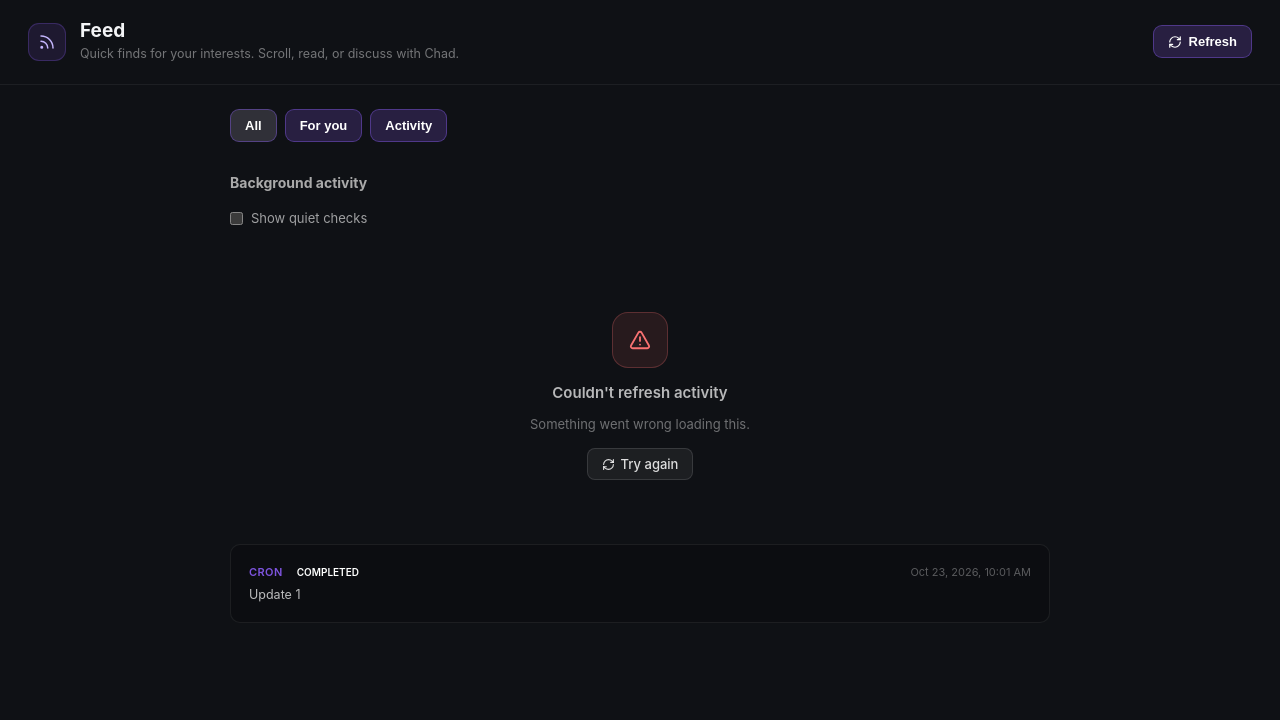
Scenario: keeps cached updates on failure and refresh recovers
Expected: the text "Couldn't refresh activity" is shown, x1=552 y1=382 x2=728 y2=404
Expected: the text "Update 1" is shown, x1=249 y1=587 x2=300 y2=602
Click the button "Refresh".
click(1202, 42)  # box x1=1153 y1=25 x2=1252 y2=58
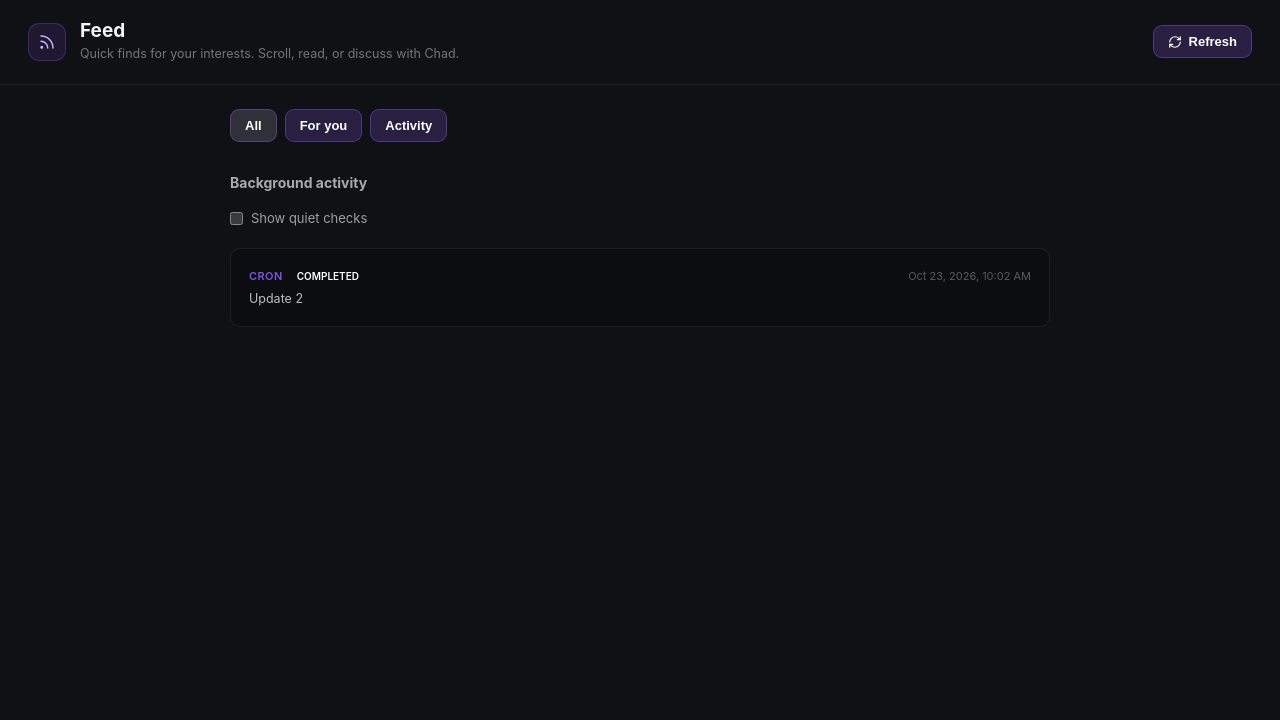
Expected: the text "Update 2" is shown, x1=249 y1=291 x2=303 y2=306
Expected: the text "Couldn't refresh activity" is gone
